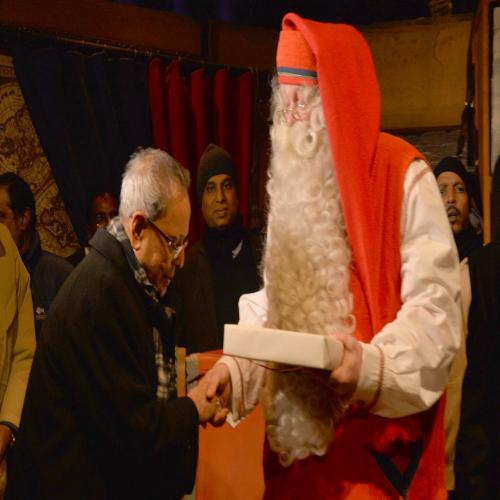Santa: (206, 12, 463, 500)
